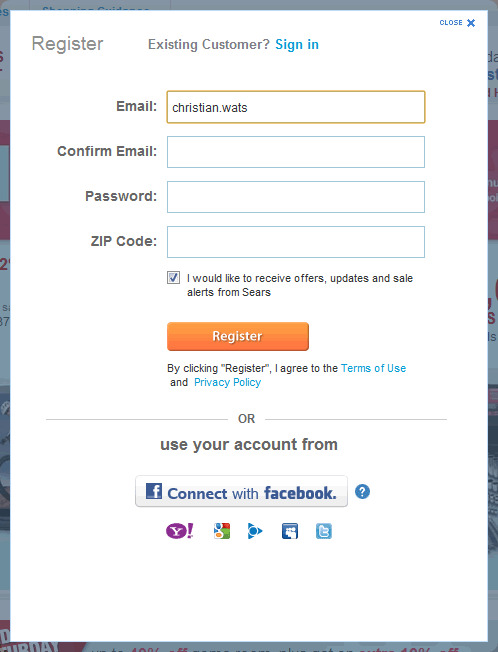_form_: (17, 83, 433, 366), (109, 314, 366, 575)
button: (134, 474, 348, 507), (166, 321, 309, 352)
checkbox: (166, 270, 182, 284)
field: (164, 90, 427, 125), (164, 225, 426, 259), (165, 180, 425, 214), (164, 135, 426, 168)
